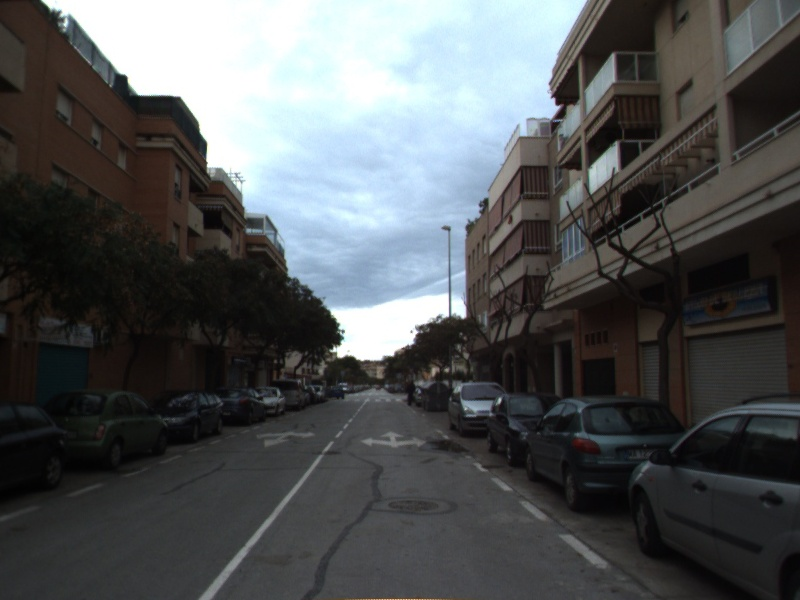STRAIGHT_LEFT_RIGHT: (359, 429, 428, 450)
